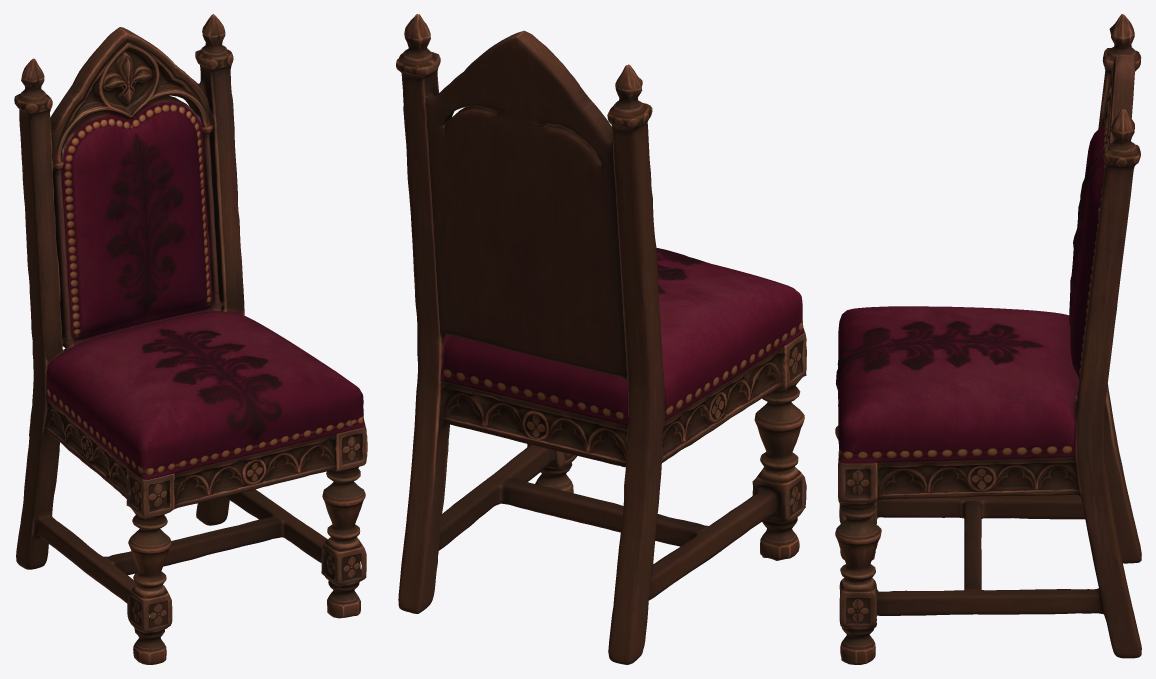
Rendered from ornate-throne.glb.
3 views of the same model, side by side, from view 1: azimuth 30°, elevation 25°; view 2: azimuth 150°, elevation 25°; view 3: azimuth 270°, elevation 25° (orthographic). The views are drawn at different scales.
Visible parts, largest first — view 1: tripo_node_16a2d6d0; view 2: tripo_node_16a2d6d0; view 3: tripo_node_16a2d6d0.
Part boxes in pixels (x1,y1,x2,y2): tripo_node_16a2d6d0: (14, 14, 367, 664); tripo_node_16a2d6d0: (396, 14, 806, 664); tripo_node_16a2d6d0: (835, 14, 1141, 664).
Size of the model in its own units: 45.91 by 97.68 by 49.13.
1 material, 1 textured.
